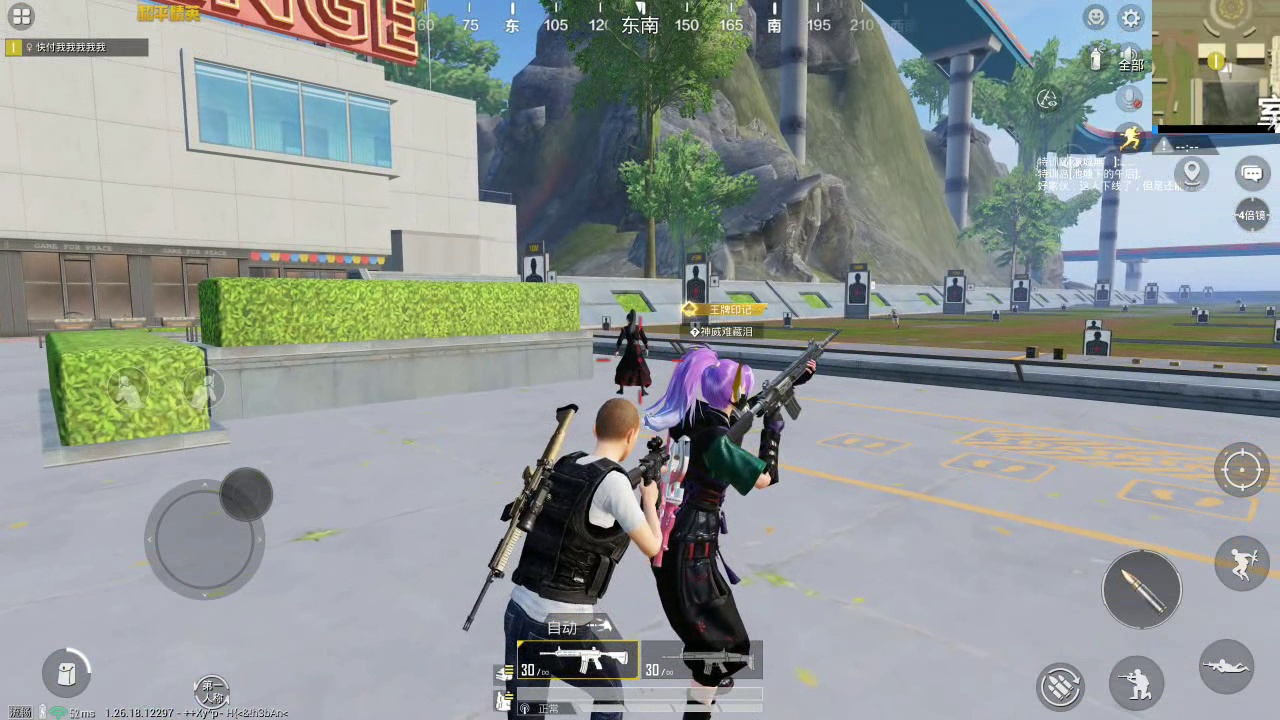enemy: (657, 349, 786, 720), (613, 310, 654, 398)
